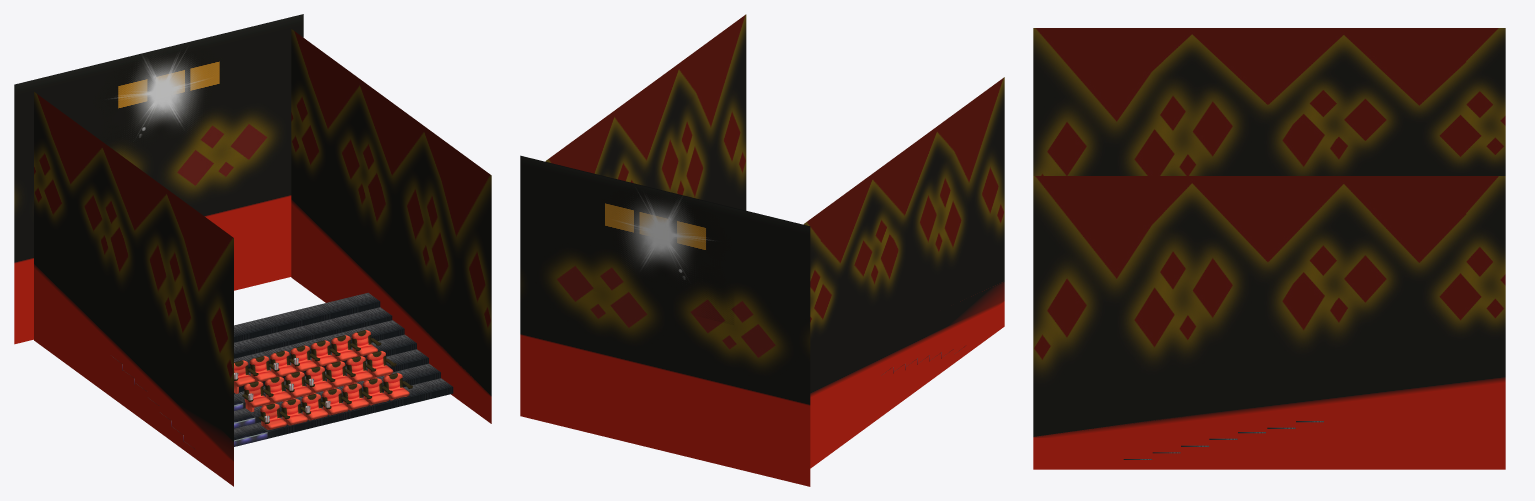
The model's file is Theater2.fbx.
3 views of the same model, side by side, from view 1: azimuth 30°, elevation 25°; view 2: azimuth 150°, elevation 25°; view 3: azimuth 270°, elevation 25° (orthographic). The views are drawn at different scales.
Parts seen in each view (by area): view 1: Theater; view 2: Theater; view 3: Theater.
Part boxes in pixels (x1,y1,x2,y2): Theater: (14,14,491,486); Theater: (520,14,1004,486); Theater: (1033,28,1505,469).
Bounding box in the file's own units: 12356 × 10606 × 15289.
Materials: 2 (2 with a texture image).
